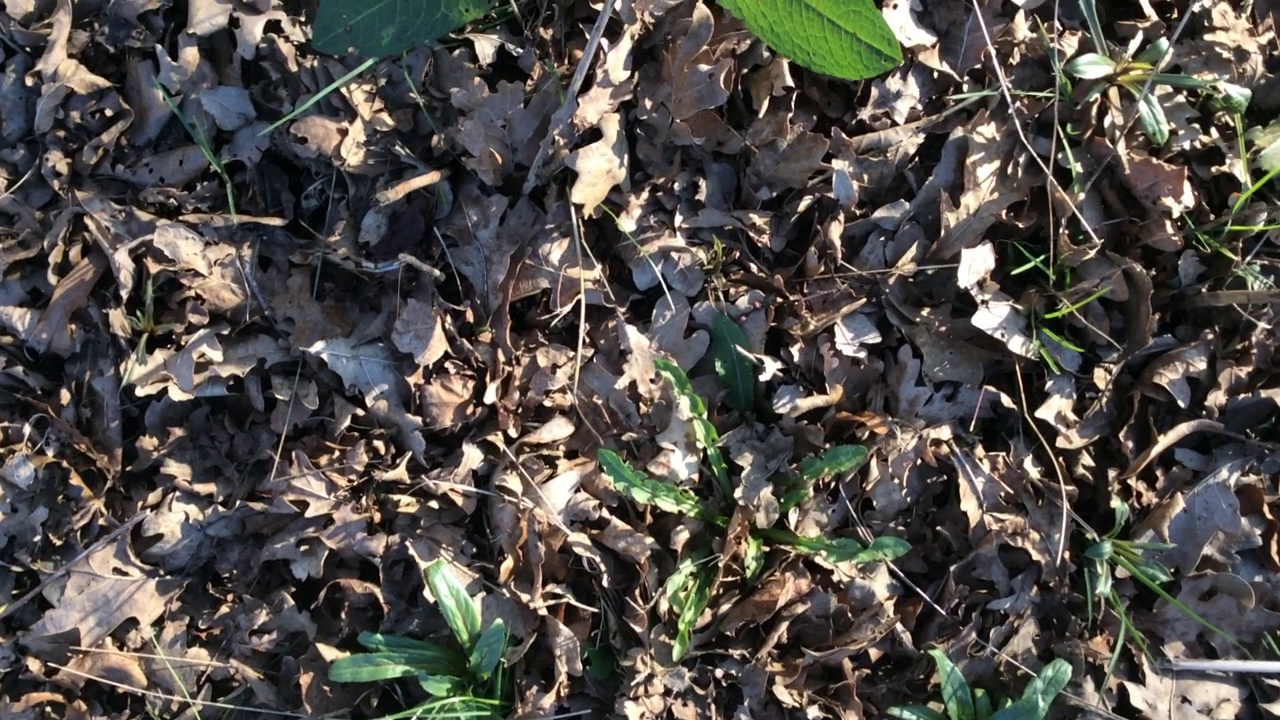rumex: (712, 1, 902, 81), (310, 1, 498, 59)
